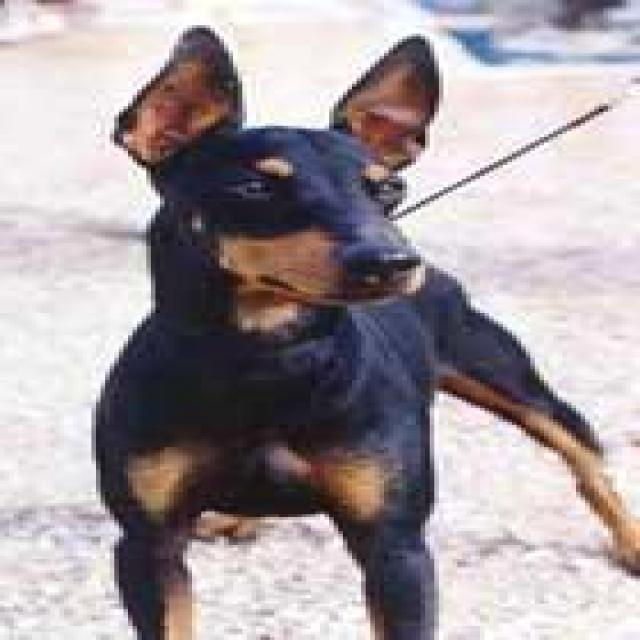toy_terrier: (91, 25, 640, 637)
